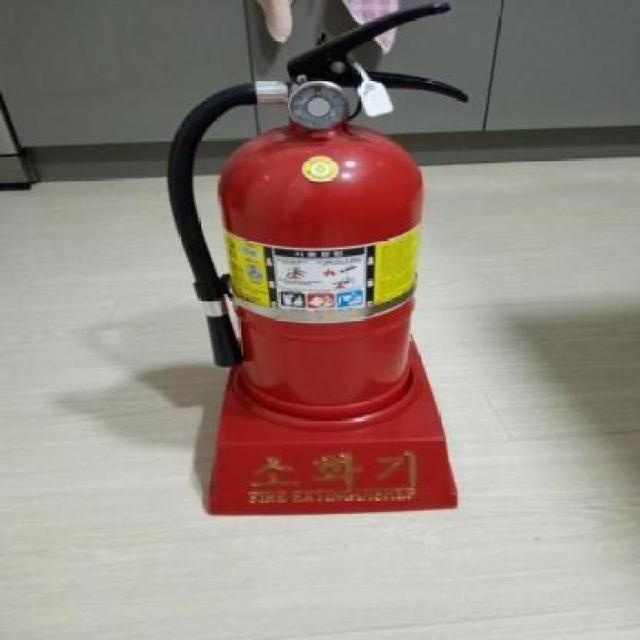fire extinguisher: (166, 1, 469, 417)
